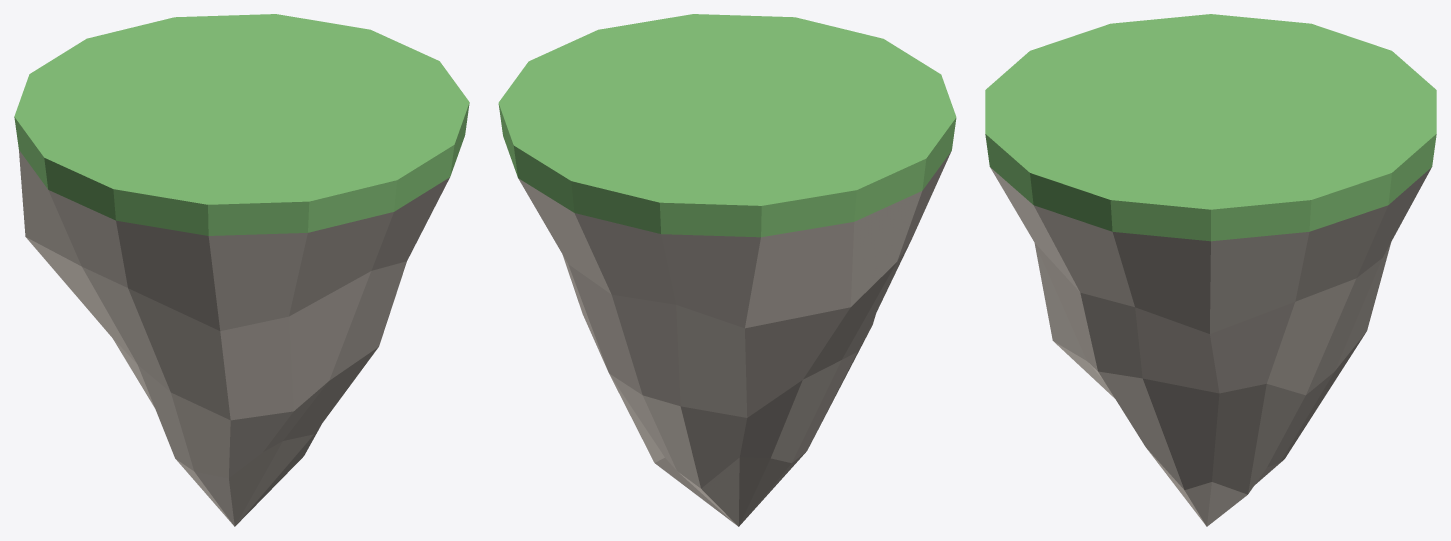
The model's file is SM_SkyIsland.fbx.
3 views of the same model, side by side, from view 1: azimuth 30°, elevation 25°; view 2: azimuth 150°, elevation 25°; view 3: azimuth 270°, elevation 25° (orthographic).
Parts seen in each view (by area): view 1: SM_SkyIsland; view 2: SM_SkyIsland; view 3: SM_SkyIsland.
Boxes of the visible parts, x1,y1,x2,y2 form: SM_SkyIsland: [14, 14, 469, 526]; SM_SkyIsland: [498, 14, 956, 526]; SM_SkyIsland: [985, 14, 1436, 526].
Size of what is drawn, in the model's own units: 100 by 100 by 97.49.
